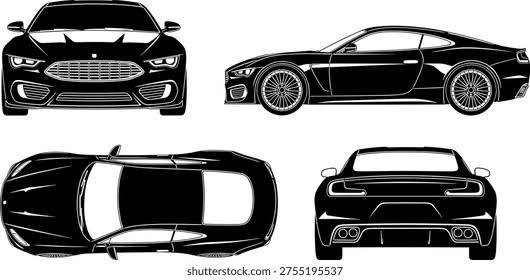car: (240, 24, 530, 112)
